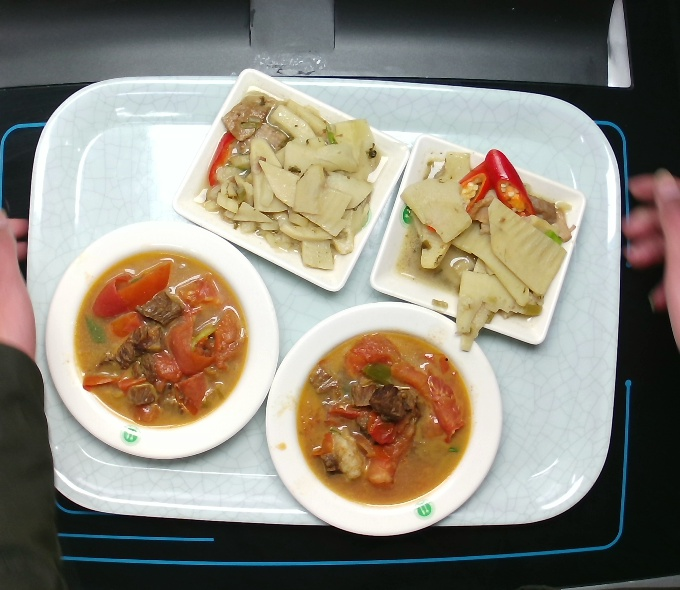wcq-DongSun: (386, 141, 588, 355), (186, 86, 390, 291)
wcq-FanQiwNiuRou: (69, 245, 250, 436), (299, 325, 473, 508)
